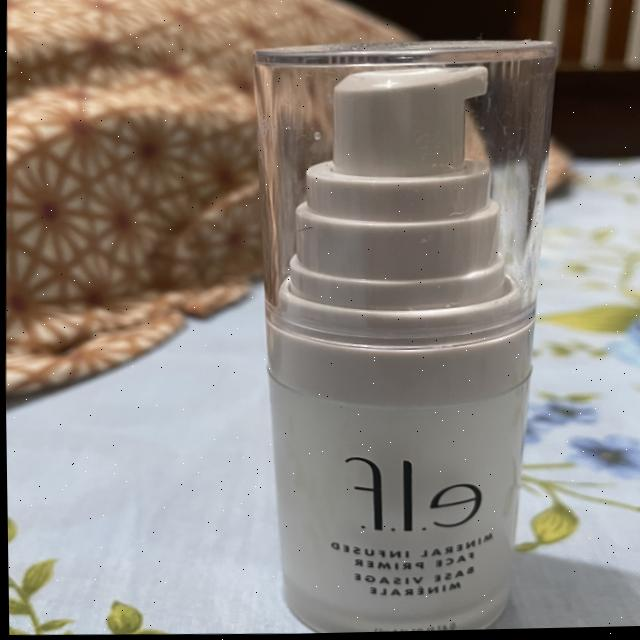primer: (224, 11, 579, 636)
